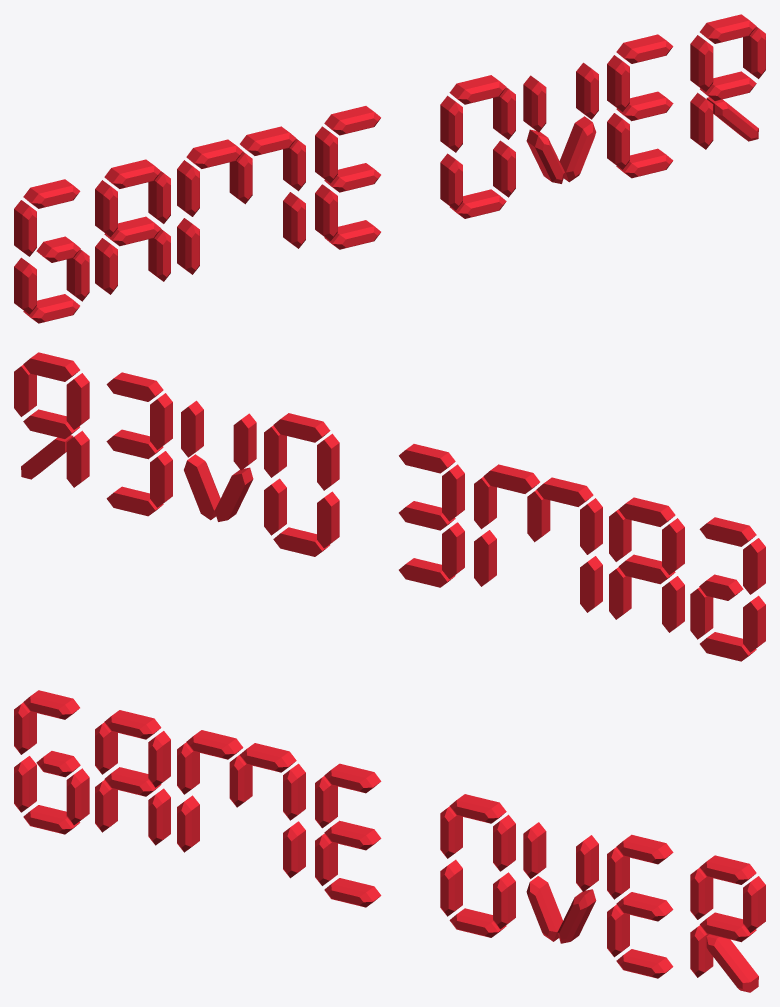
The model's file is GameOverLetters.fbx.
The picture shows the model from 3 angles, top to bottom: view 1: azimuth 30°, elevation 25°; view 2: azimuth 150°, elevation 25°; view 3: azimuth 330°, elevation 25°; orthographic projection.
Parts seen in each view (by area): view 1: Slash Segment.008, Slash Segment.010, Segment.087, SegmentLeftBottomOn.010, SegmentLeftTopOn.010, SegmentTopOn.010, SegmentTopOn.012, Segment.123, Segment.130, Segment.126, Segment.097, Segment.088 (+33 smaller); view 2: Slash Segment.008, Slash Segment.010, Segment.087, SegmentLeftBottomOn.010, SegmentLeftTopOn.010, SegmentTopOn.010, SegmentTopOn.012, Segment.123, Segment.130, Segment.126, Segment.097, Segment.088 (+33 smaller); view 3: Slash Segment.011, Slash Segment.010, Slash Segment.008, SegmentRightTopOn.008, Segment.087, SegmentBottomOn.007, SegmentTopOn.012, Segment.113, Segment.123, SegmentBottomOn.002, Segment.097, Segment.130 (+33 smaller).
Boxes of the visible parts, x1,y1,x2,y2 form: Slash Segment.008: (559,116,596,182); Slash Segment.010: (526,129,564,183); Segment.087: (523,75,546,132); SegmentLeftBottomOn.010: (690,92,713,149); SegmentLeftTopOn.010: (690,35,713,91); SegmentTopOn.010: (23,179,80,208); SegmentTopOn.012: (104,159,161,188); Segment.123: (186,139,243,168); Segment.130: (616,34,673,63); Segment.126: (240,126,296,155); Segment.097: (449,75,506,104); Segment.088: (576,62,598,119); Slash Segment.008: (184,454,220,520); Slash Segment.010: (215,467,253,521); Segment.087: (233,413,256,470); SegmentLeftBottomOn.010: (66,430,89,487); SegmentLeftTopOn.010: (66,373,89,429); SegmentTopOn.010: (699,517,756,546); SegmentTopOn.012: (618,497,675,526); Segment.123: (536,477,593,506); Segment.130: (106,372,163,401); Segment.126: (483,464,539,493); Segment.097: (273,413,330,442); Segment.088: (181,400,203,457); Slash Segment.011: (706,934,758,992); Slash Segment.010: (526,876,562,941); Slash Segment.008: (557,889,596,943); SegmentRightTopOn.008: (66,768,89,825); Segment.087: (523,822,546,878); SegmentBottomOn.007: (324,820,381,850); SegmentTopOn.012: (104,710,161,739); Segment.113: (616,949,673,978); Segment.123: (186,730,243,759); SegmentBottomOn.002: (324,878,381,907); Segment.097: (450,794,506,823); Segment.130: (616,834,673,864).
Size of the model in its own units: 1022 by 26.93 by 171.
